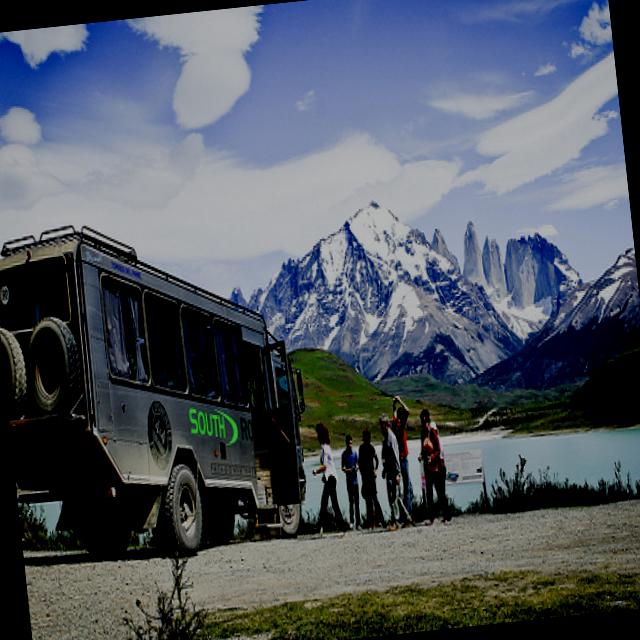Vehicle: (0, 202, 318, 569)
